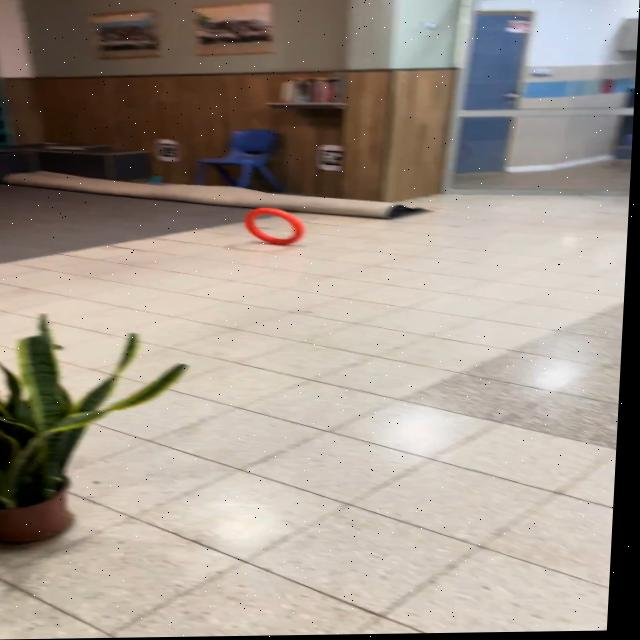note: (243, 206, 310, 248)
